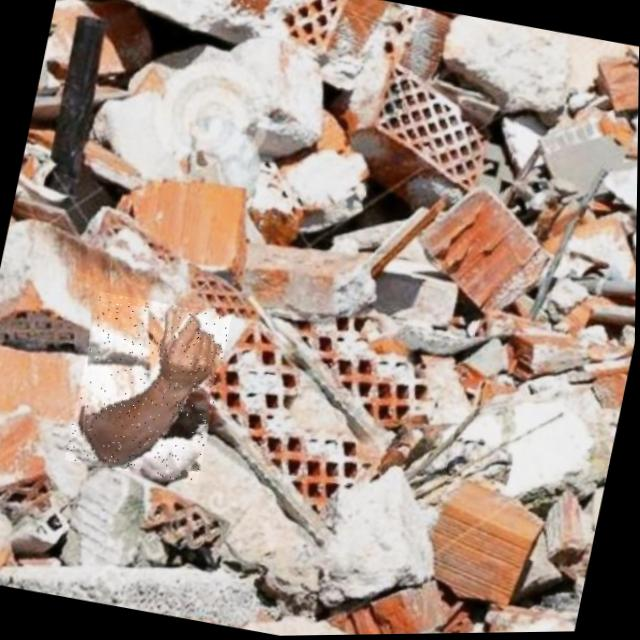Person in Rubble: (66, 290, 233, 486)
